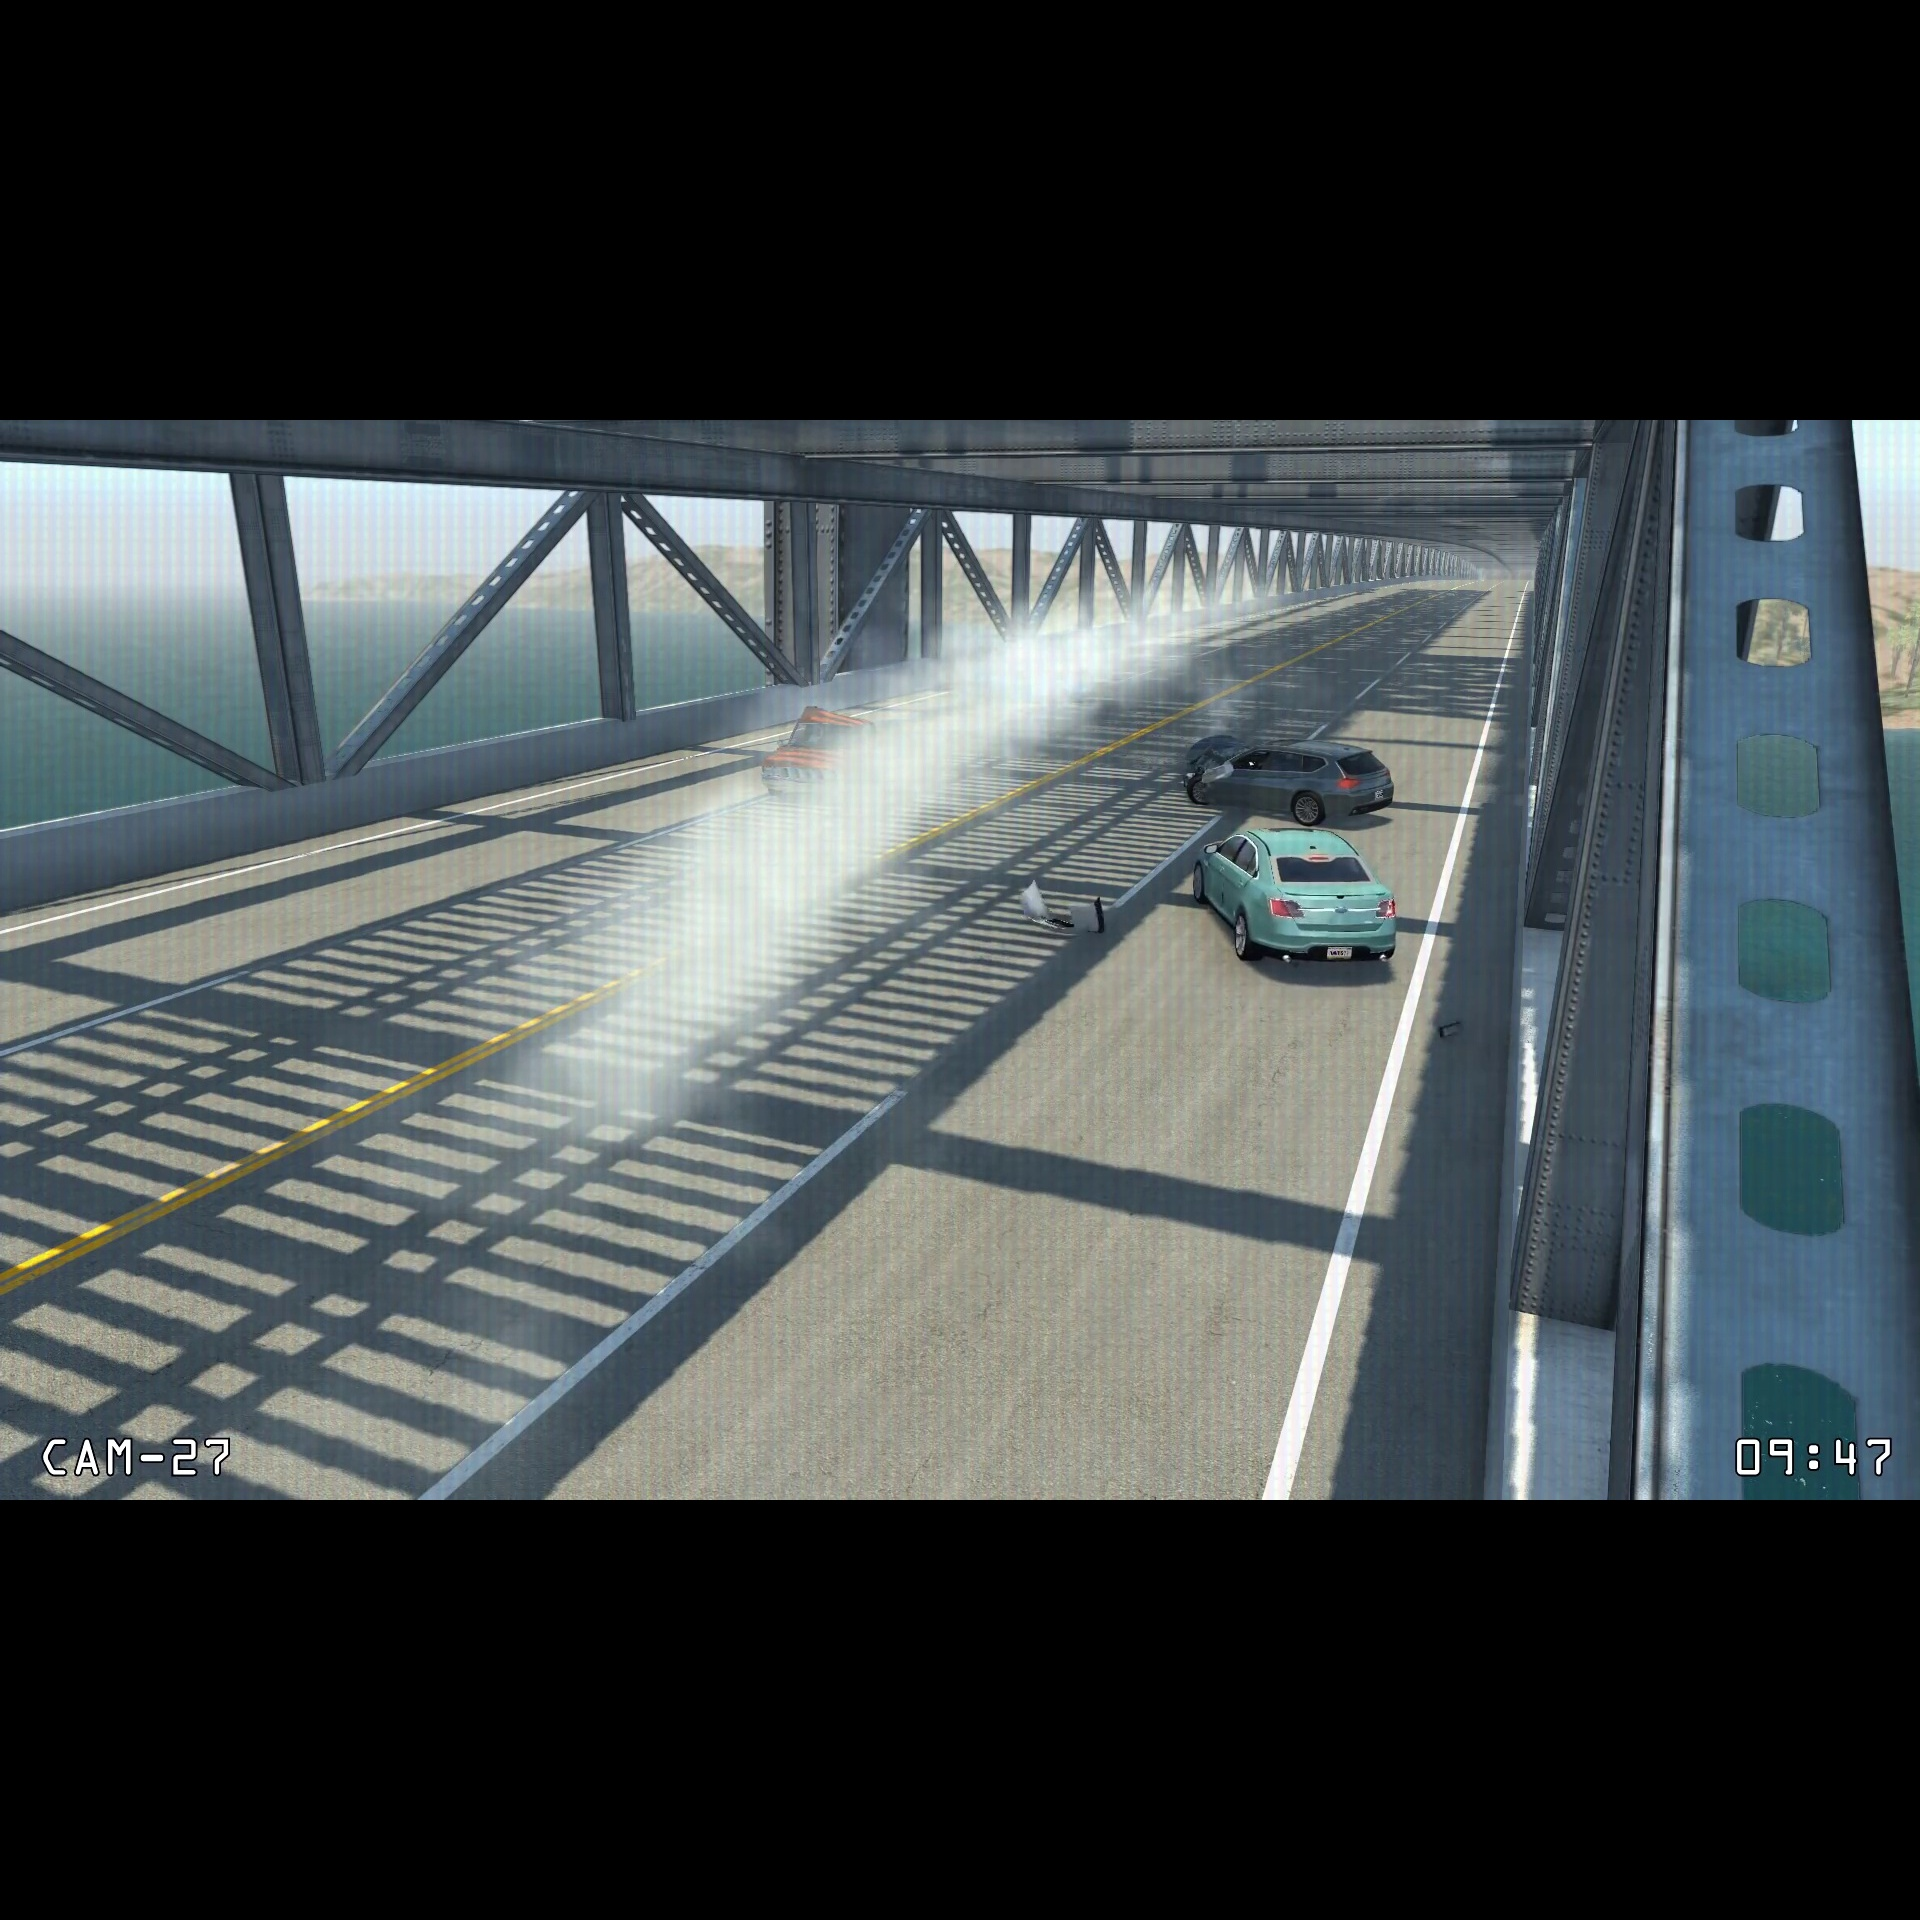vehicle: (1185, 823, 1407, 974), (1171, 723, 1403, 832), (747, 696, 893, 805)
